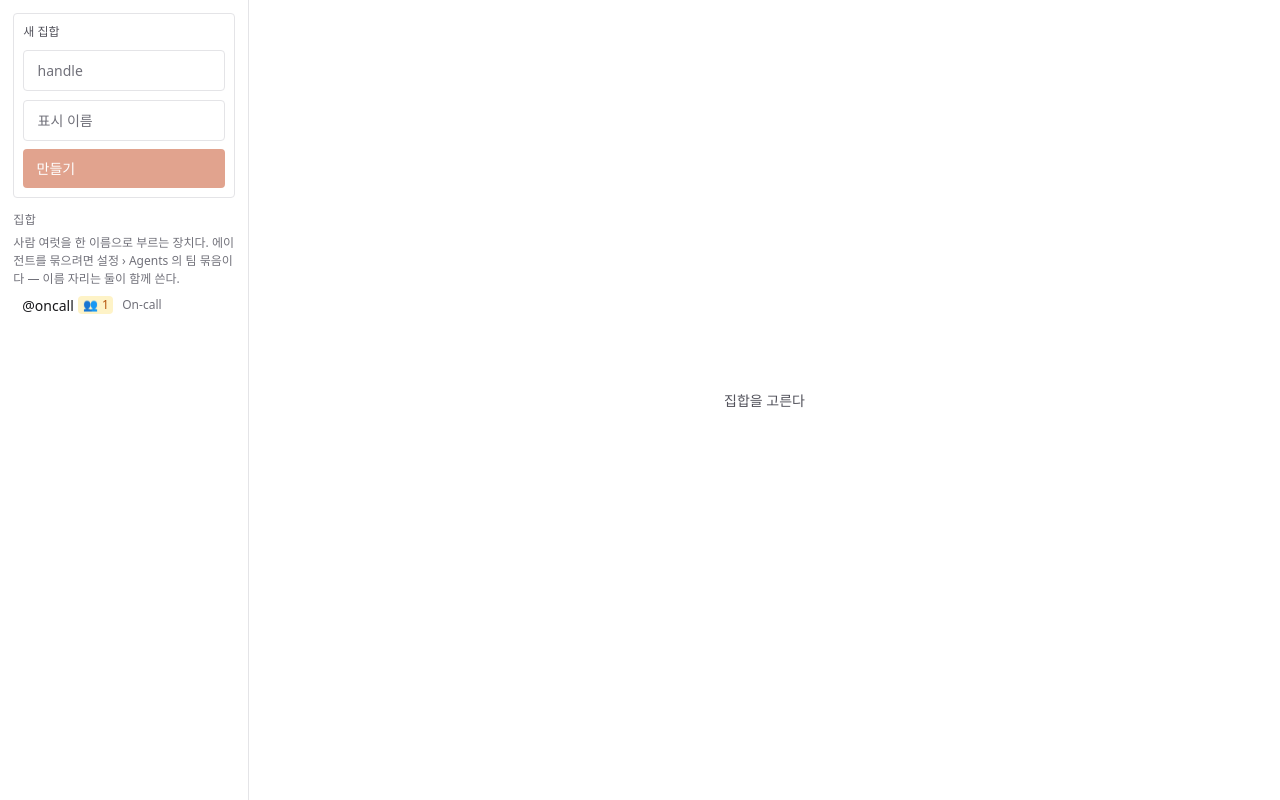
it: 핸들 집합 설정 화면 (#285) › 명단을 못 받으면 사유가 보이고 상세는 열리지 않는다 — "없다"와 "못 읽었다"는 다르다
Click the button with test id "group-row-oncall": coordinates (124, 305) [13,288,235,322]
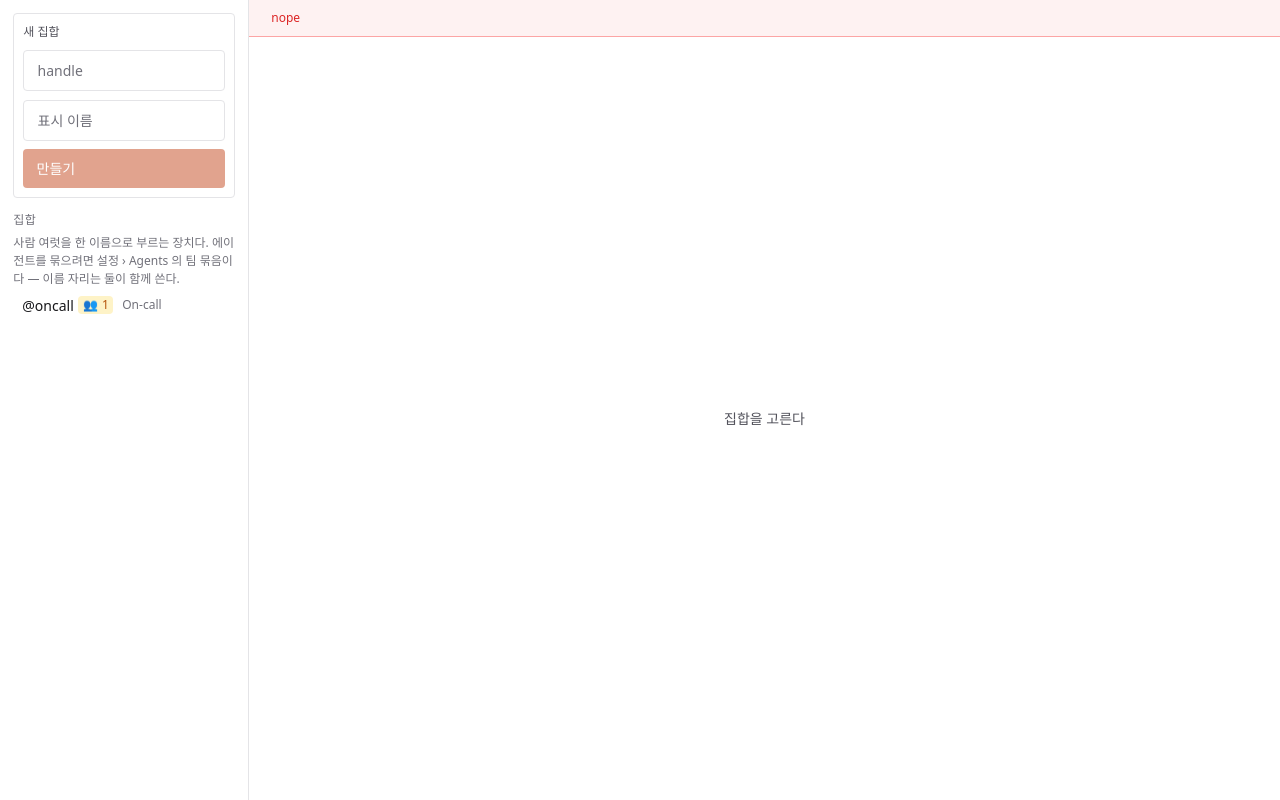
expect the message reads "nope": met, box [271,9,300,26]
